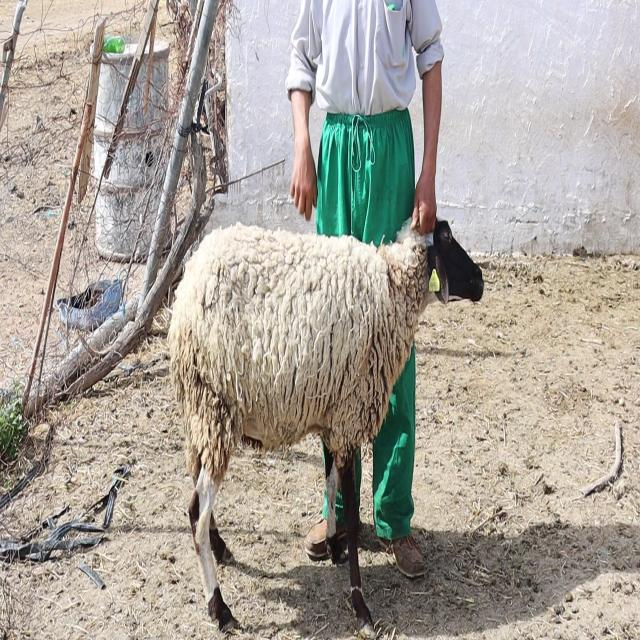Score_2: (168, 220, 484, 637)
